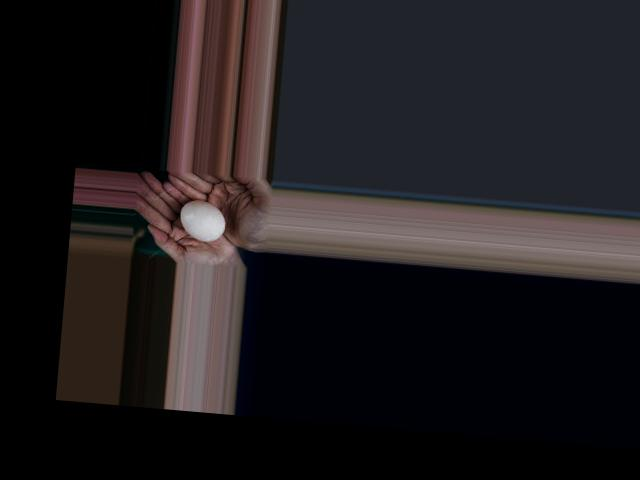egg: (178, 199, 226, 241)
